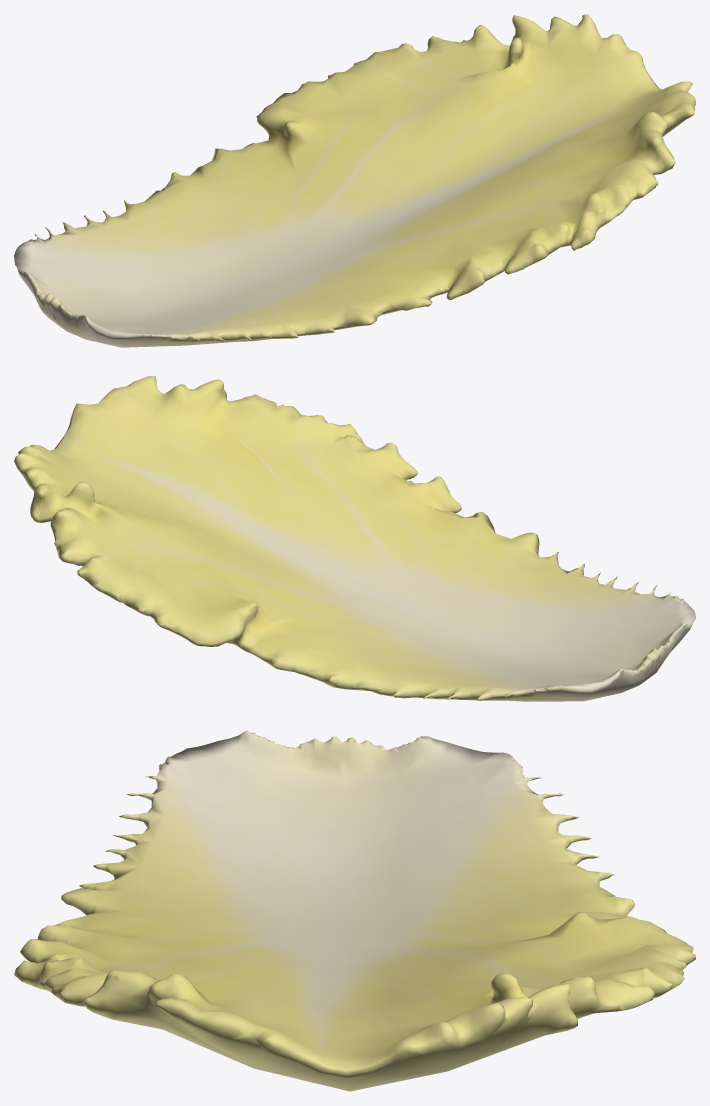
File: optimized_glb.glb
3 renders of one model, top to bottom at view 1: azimuth 30°, elevation 25°; view 2: azimuth 150°, elevation 25°; view 3: azimuth 270°, elevation 25°, orthographic. The views are drawn at different scales.
Parts seen in each view (by area): view 1: Napa Cabbage; view 2: Napa Cabbage; view 3: Napa Cabbage.
Boxes of the visible parts, bbox=[...] form: Napa Cabbage: bbox=[14, 14, 695, 347]; Napa Cabbage: bbox=[14, 376, 695, 701]; Napa Cabbage: bbox=[14, 730, 695, 1091].
Bounding box in the file's own units: 0.998 × 0.2598 × 0.6777.
1 material, 1 textured.
